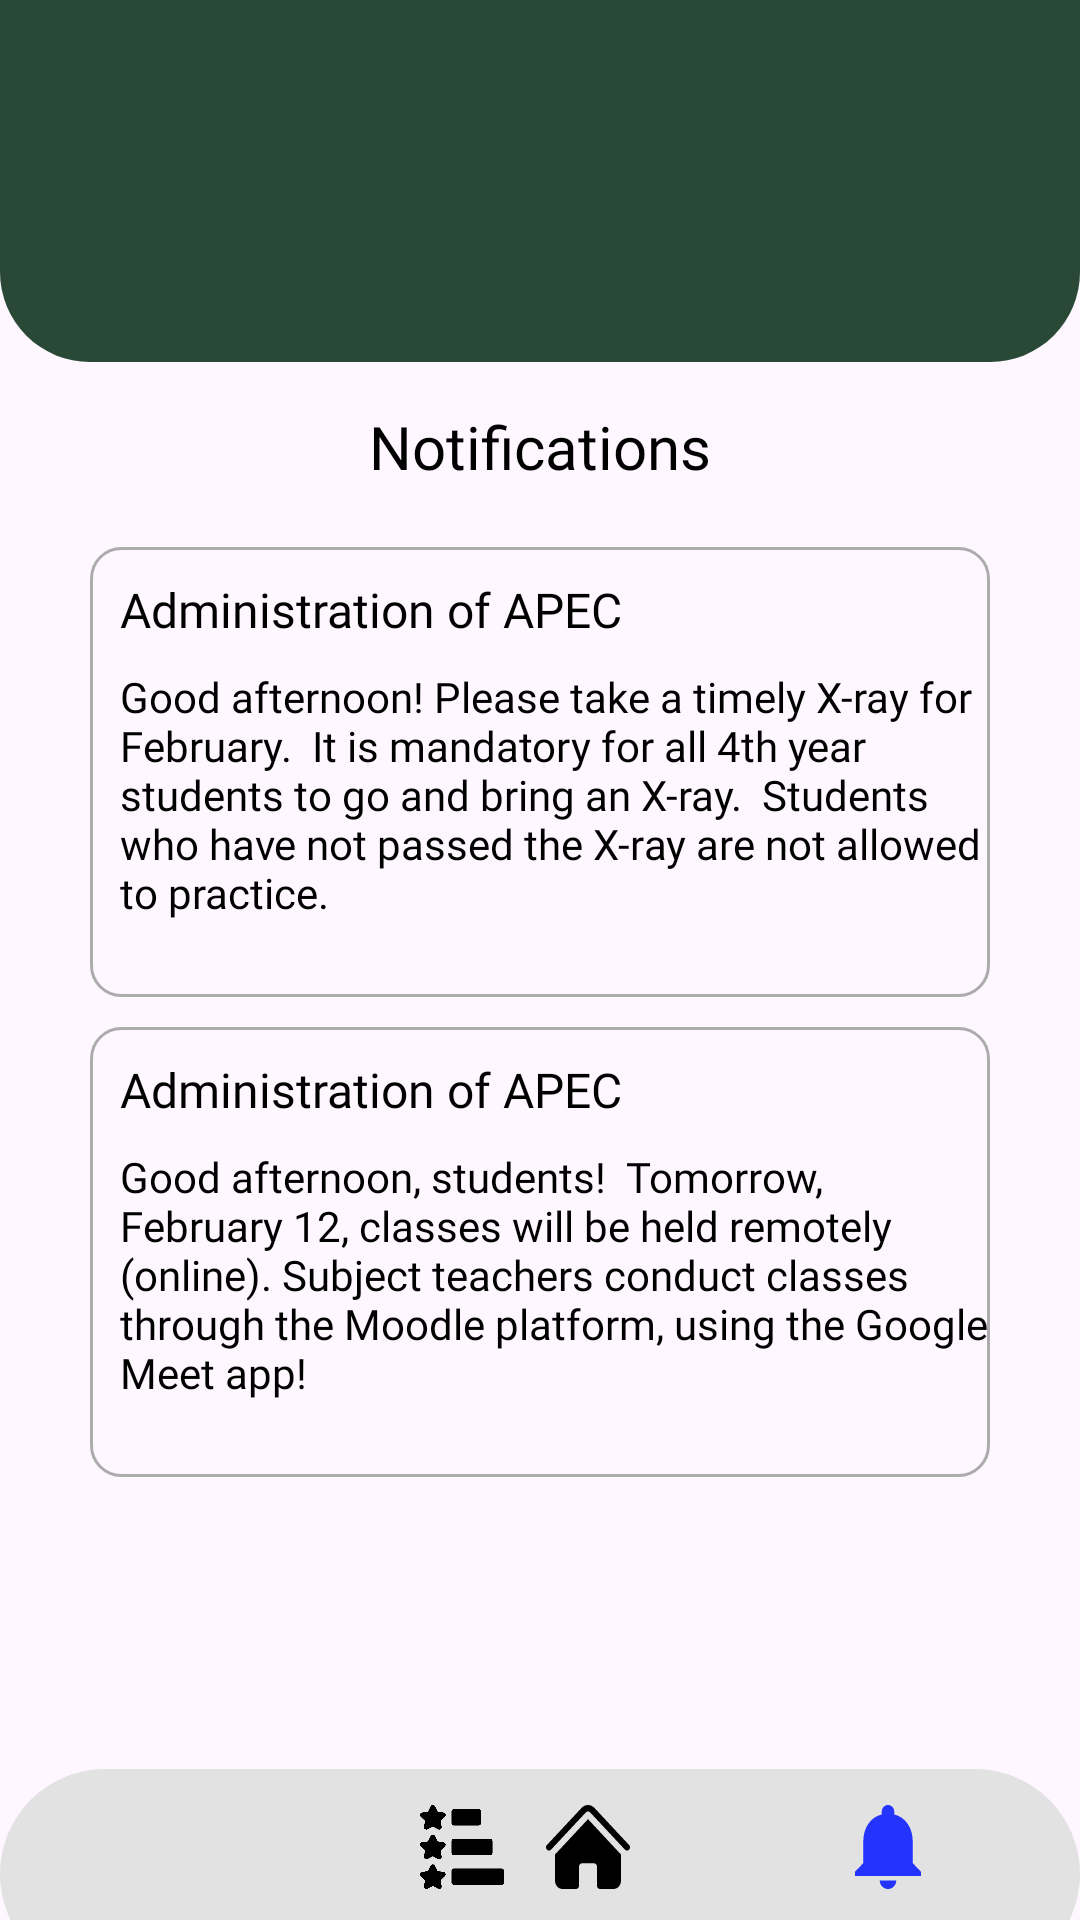

Where to tap for icons on this 1080 x 1920 app screen, as (x,y):
notifications: (888,1847)
ratestars: (462,1847)
